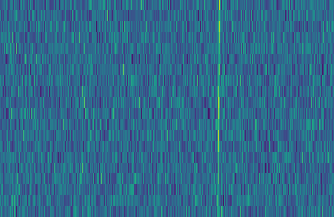signal: (213, 0, 224, 217)
